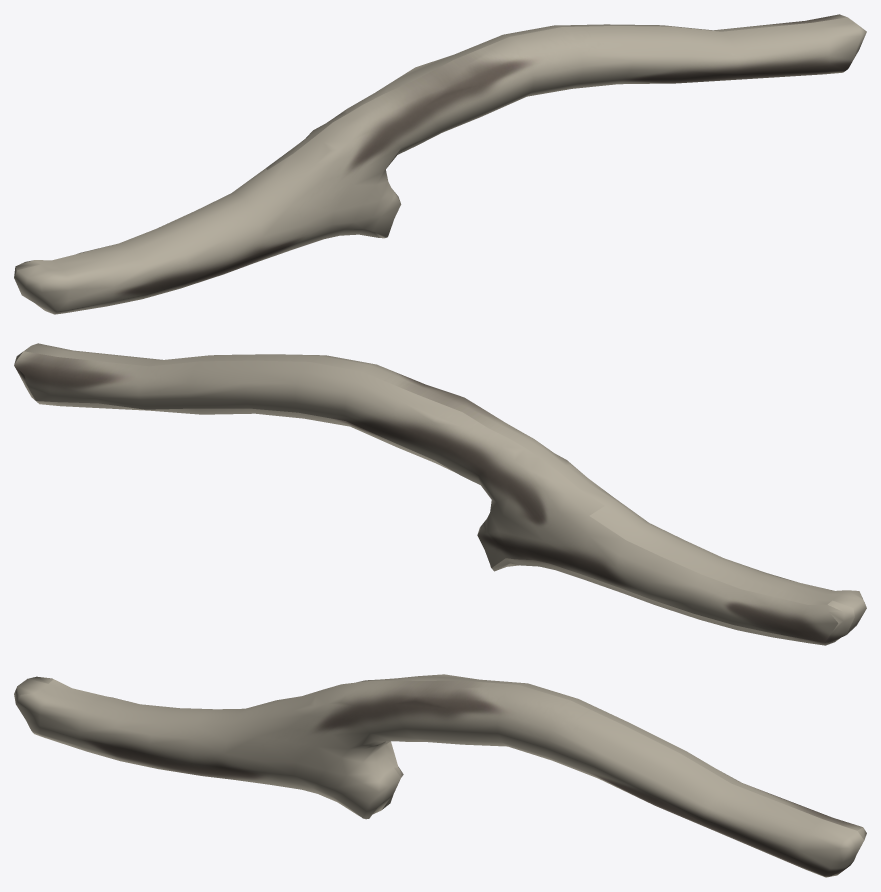
Rendered from long_branch.FBX.
3 renders of one model, top to bottom at view 1: azimuth 30°, elevation 25°; view 2: azimuth 150°, elevation 25°; view 3: azimuth 330°, elevation 25°, orthographic.
Visible parts, largest first — view 1: 流木 ‐ 細長1; view 2: 流木 ‐ 細長1; view 3: 流木 ‐ 細長1.
Boxes of the visible parts, <box> form: 流木 ‐ 細長1: <box>14,14,866,314</box>; 流木 ‐ 細長1: <box>14,343,866,645</box>; 流木 ‐ 細長1: <box>14,674,866,877</box>.
Bounding box in the file's own units: 22.55 × 1.88 × 4.2.
